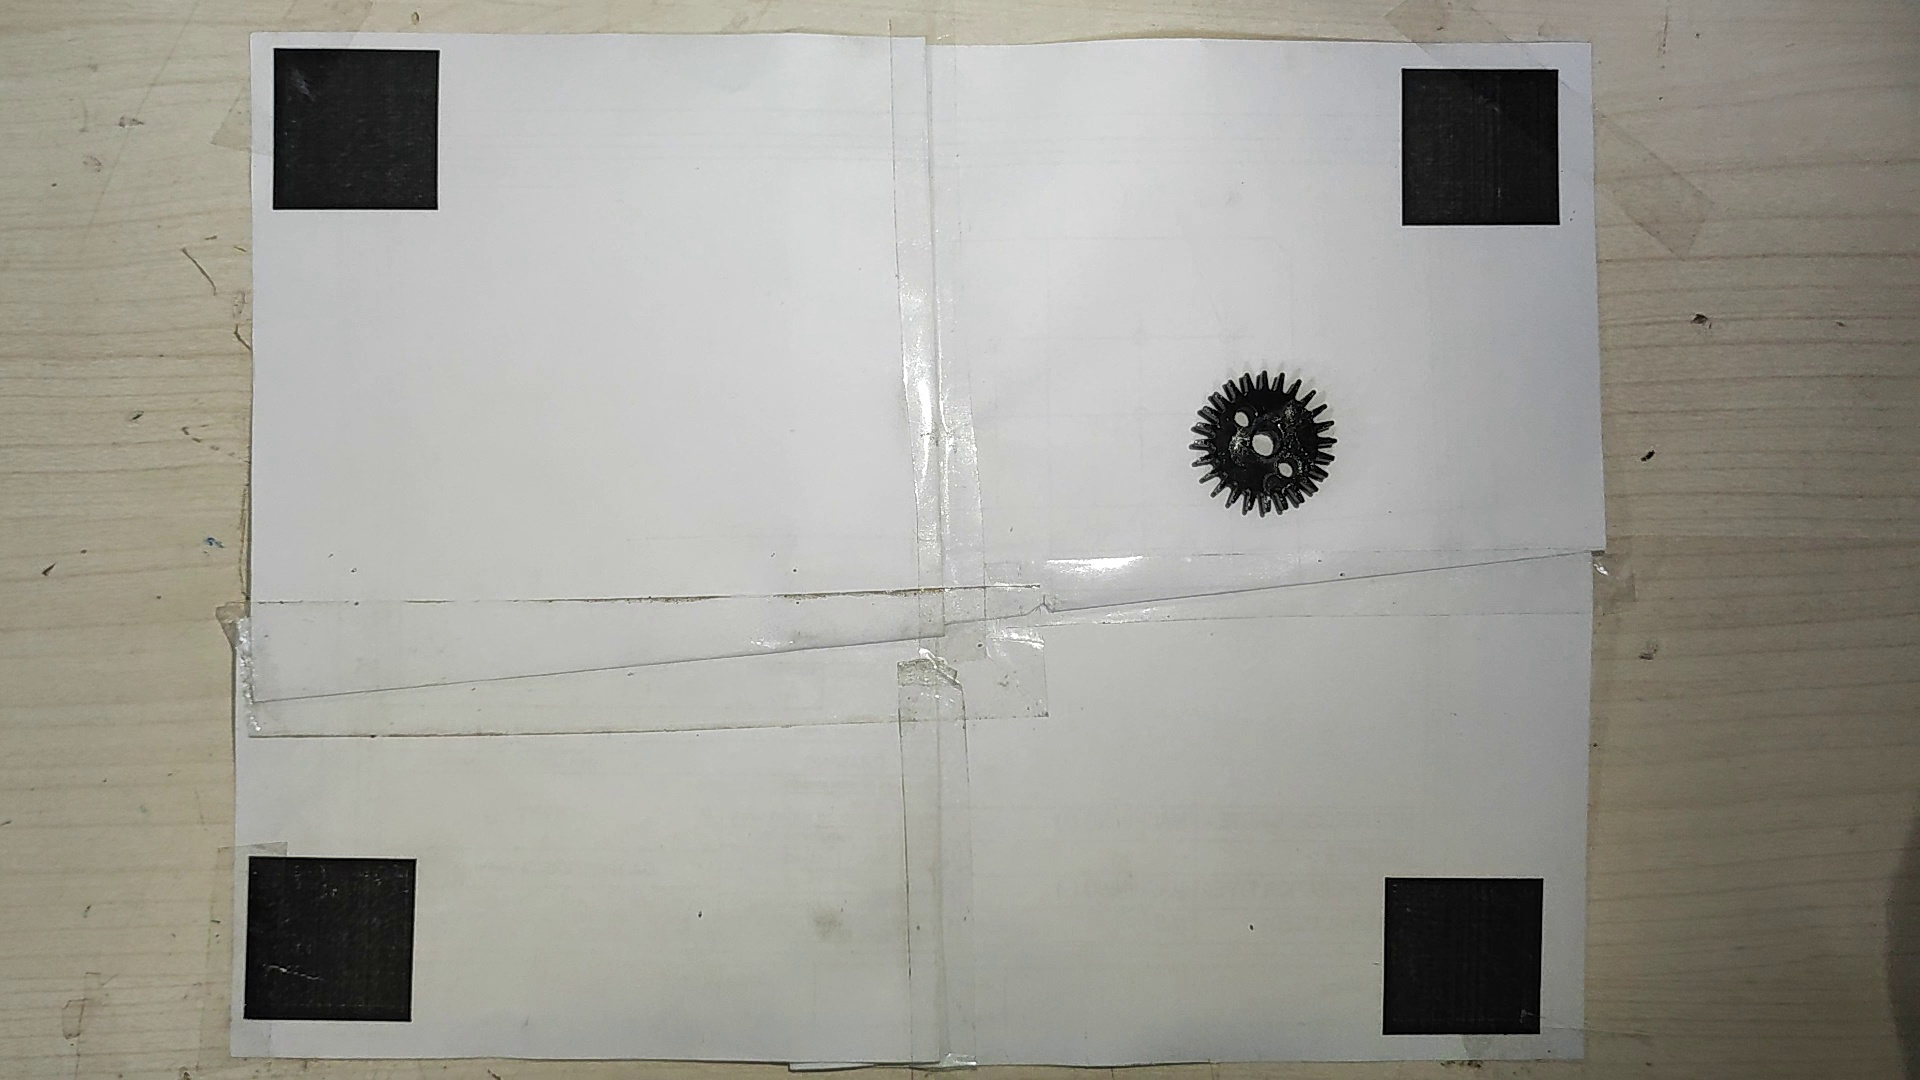Gear: (1189, 367, 1341, 520)
